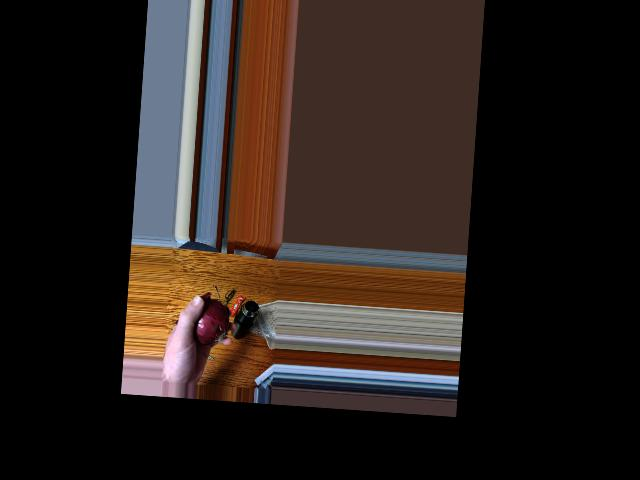onion: (187, 302, 229, 347)
